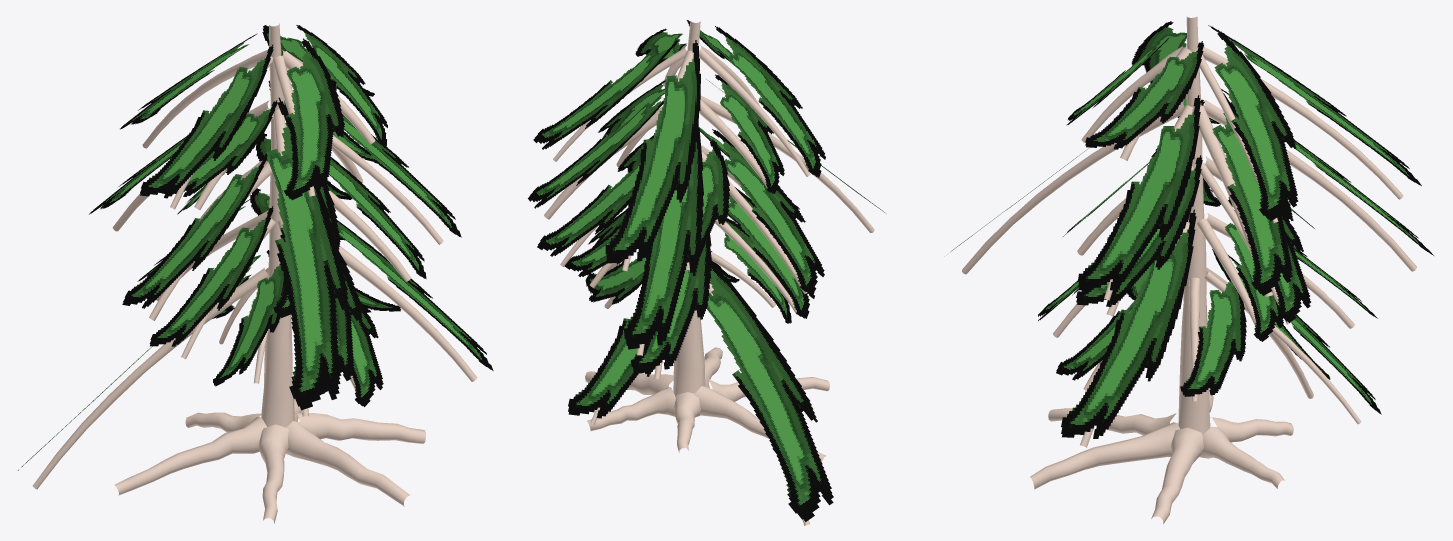
File: crowned_pine_02.glb
3 views of the same model, side by side, from view 1: azimuth 30°, elevation 25°; view 2: azimuth 150°, elevation 25°; view 3: azimuth 270°, elevation 25° (orthographic). The views are drawn at different scales.
Parts seen in each view (by area): view 1: crowned_pine_02; view 2: crowned_pine_02; view 3: crowned_pine_02.
Boxes of the visible parts, <box> form: crowned_pine_02: <box>18,23,493,523</box>; crowned_pine_02: <box>528,20,884,525</box>; crowned_pine_02: <box>951,16,1433,523</box>.
Size of the model in its own units: 5.91 by 6.3 by 6.26.
2 materials, 1 textured.
